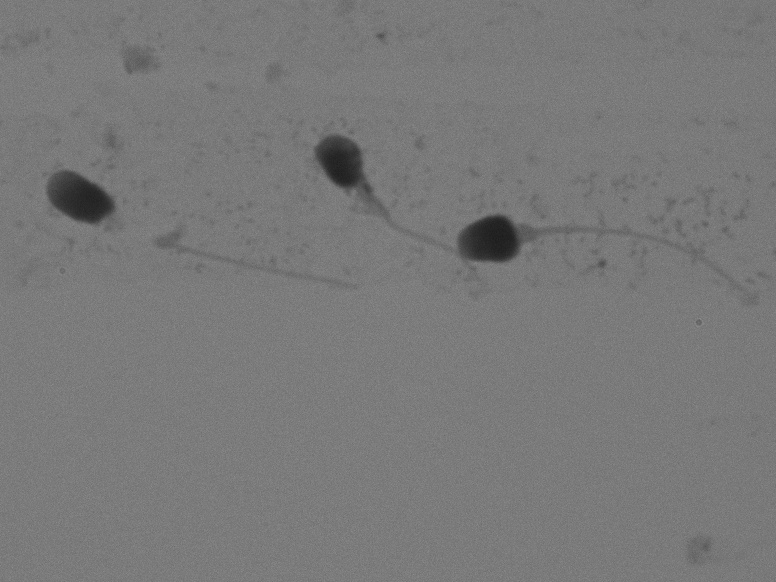Abnormal: (20, 148, 390, 315), (449, 177, 767, 334), (299, 118, 446, 302)
